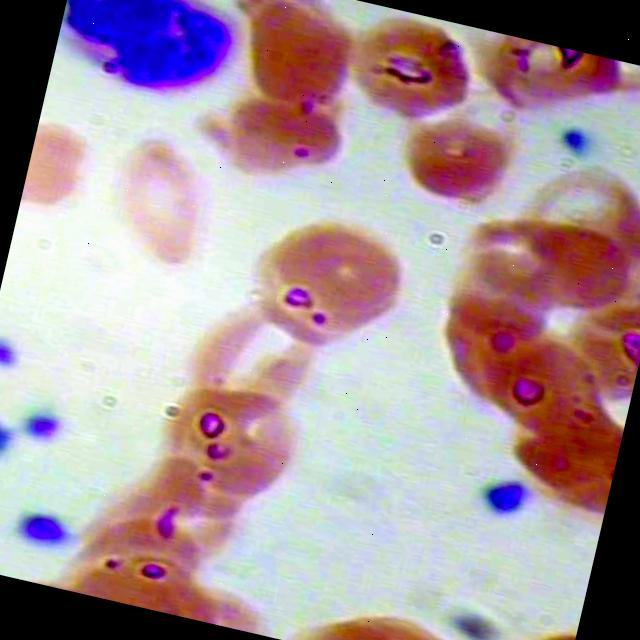Platelets: (0, 490, 86, 560), (476, 466, 538, 530), (11, 403, 66, 450), (549, 120, 594, 160), (0, 404, 26, 470), (0, 321, 28, 382)
RBC: (232, 207, 410, 368), (152, 358, 316, 516), (178, 73, 358, 201), (188, 286, 338, 430), (95, 125, 232, 279), (338, 3, 493, 139), (221, 0, 372, 120), (390, 108, 519, 222), (15, 96, 114, 234)
WBC: (48, 0, 263, 115)
